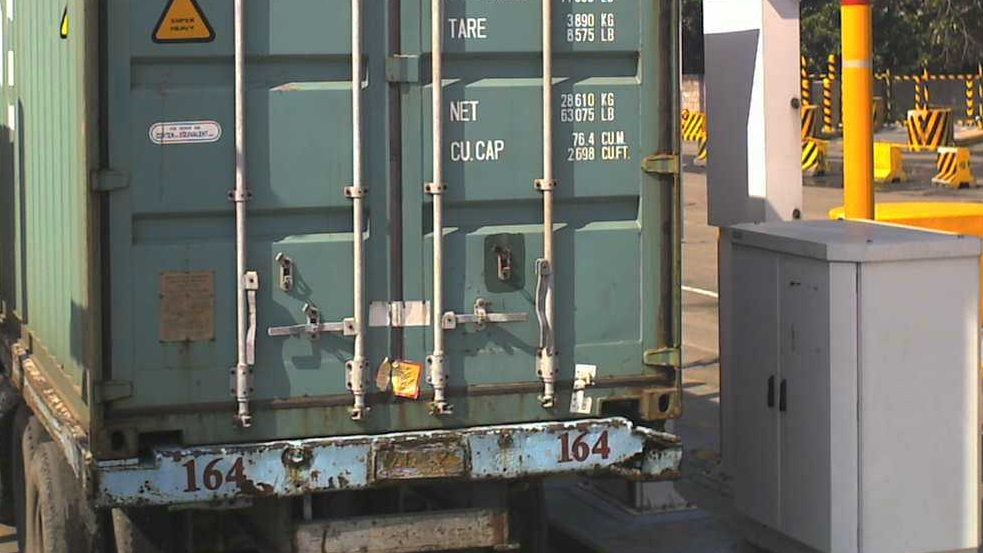container_door: (81, 5, 682, 462)
